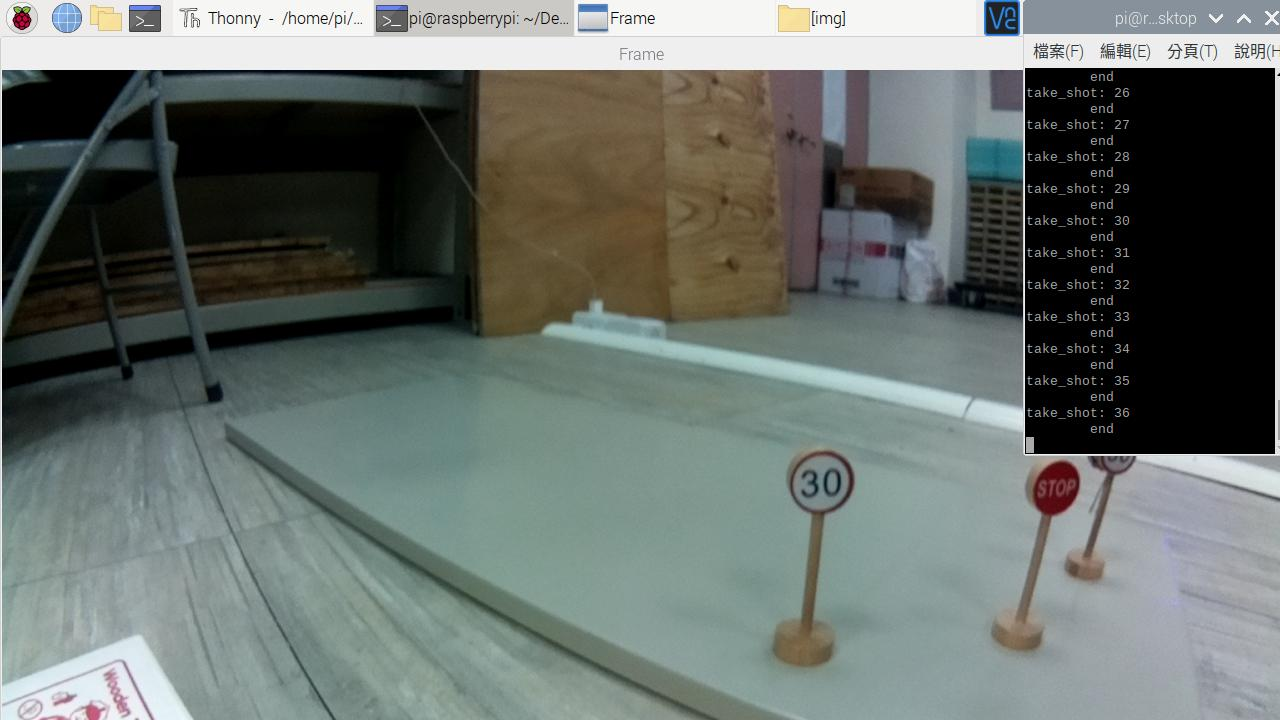Speed30: (792, 457, 842, 509)
Stop: (1035, 468, 1080, 513)
